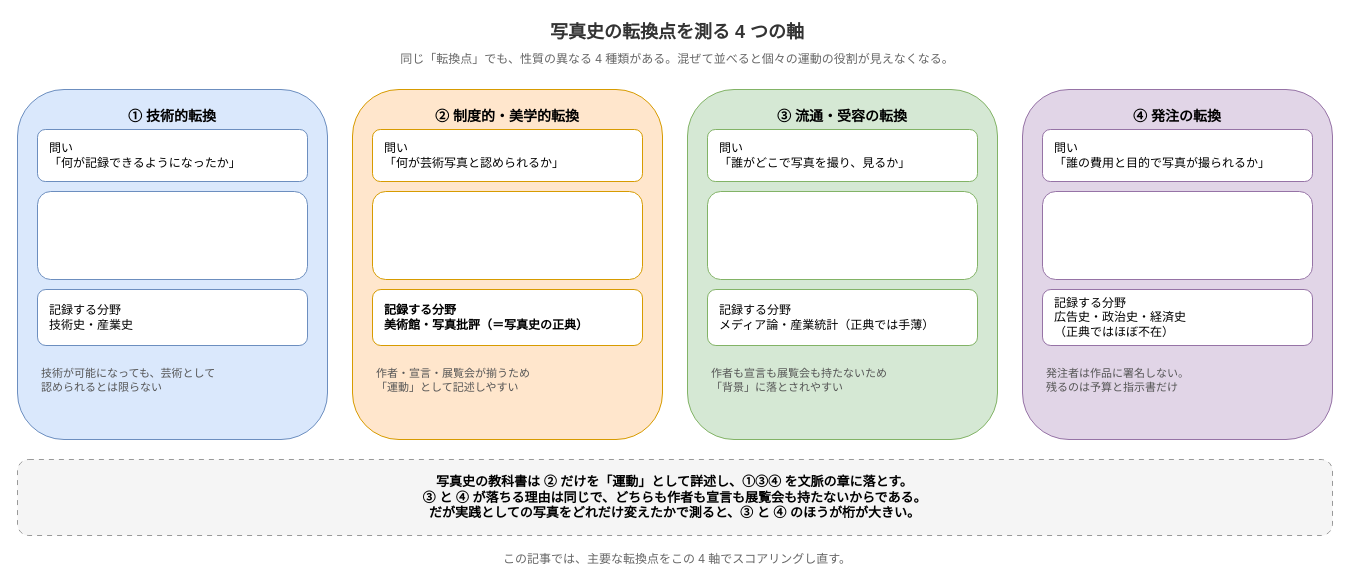
Image size: 1350x588. Some labels were removed from this diagram. The centre of each missing label's shape, as x and y in pixels:
"例 コダック No.1／グラフ誌／ Web と JPEG／Instagram" goes at (842,235).
"例 ピクトリアリズム／f/64／ ニュー・トポグラフィックス／ニューカラー" goes at (507,235).
"例 広告写真の職業化／FSA・OWI／ スタンダード石油／USIA／ストックフォト／ プラットフォーム／学習データ" goes at (1177,235).
"例 湿板コロジオン／網版（ハーフトーン）／ 35mm／カラー乳剤／デジタルセンサー" goes at (172,235).
